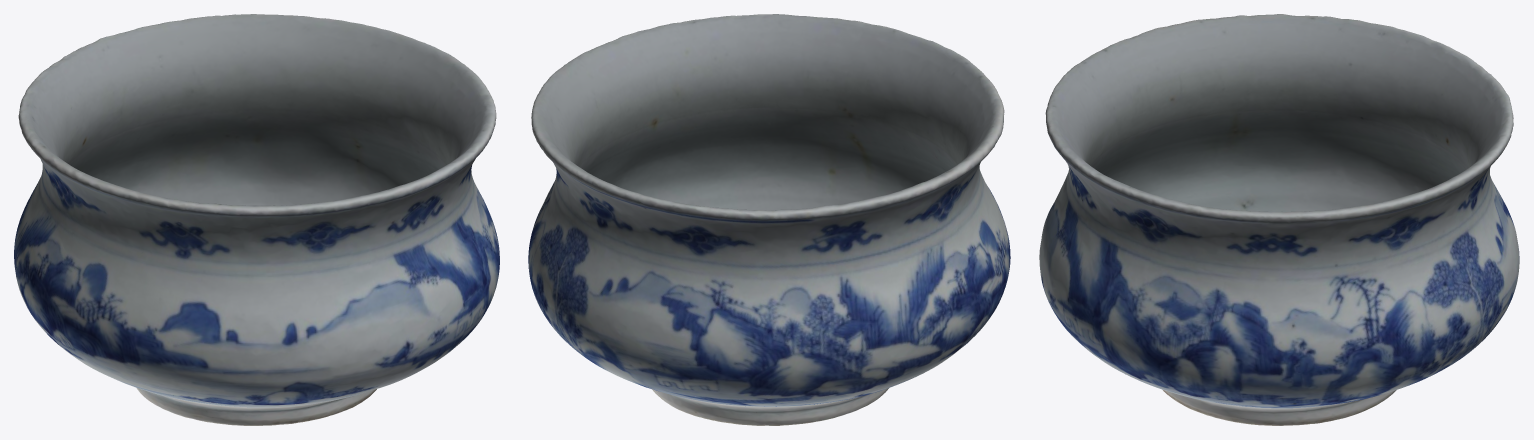
File: incense-burner.glb
3 views of the same model, side by side, from view 1: azimuth 30°, elevation 25°; view 2: azimuth 150°, elevation 25°; view 3: azimuth 270°, elevation 25° (orthographic).
Parts seen in each view (by area): view 1: mesh_n3d; view 2: mesh_n3d; view 3: mesh_n3d.
Part boxes in pixels (bbox=[...]): mesh_n3d: bbox=[14, 14, 499, 425]; mesh_n3d: bbox=[528, 14, 1010, 425]; mesh_n3d: bbox=[1039, 14, 1519, 425].
Bounding box in the file's own units: 0.234 × 0.1423 × 0.2338.
1 material, 1 textured.
